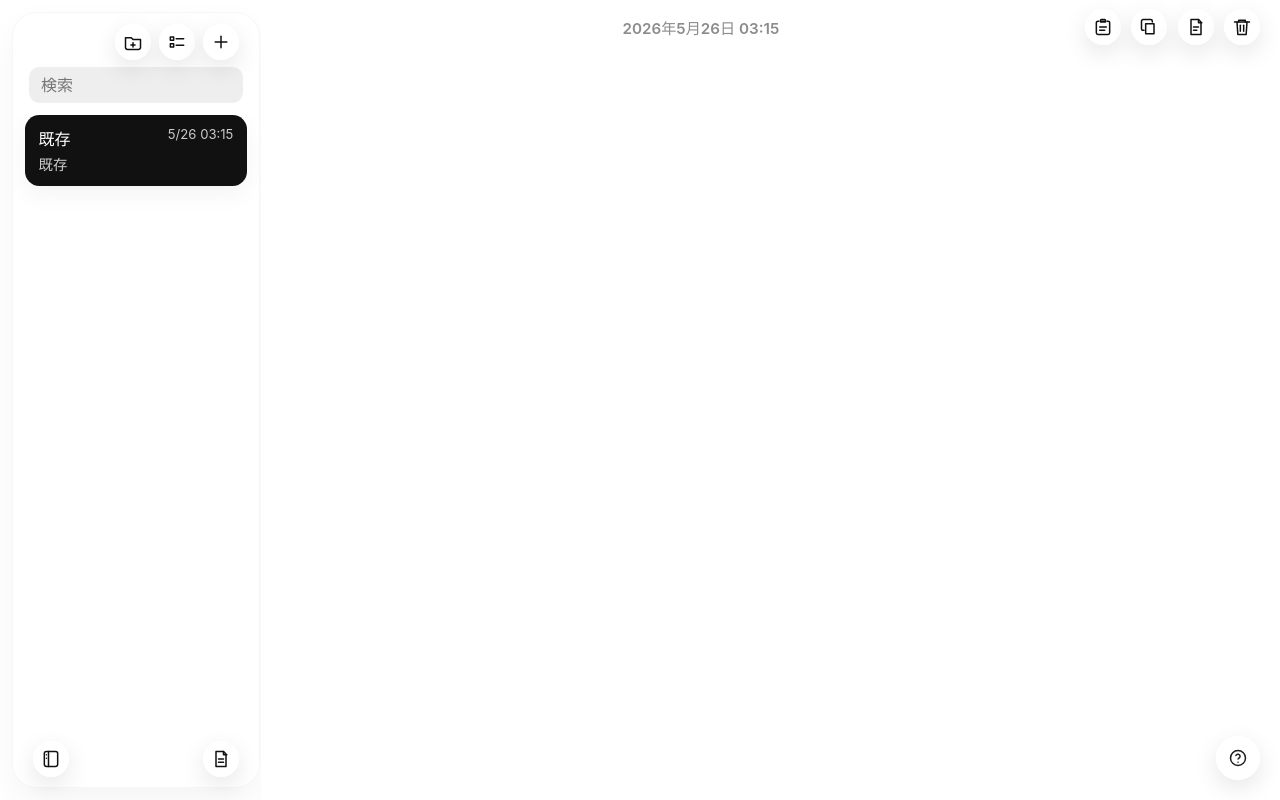
Test: App › starts note folder creation from the command palette even when the note list is hidden
Expected: the option "既存 5/26 03:15 既存" is shown, [25, 115, 247, 186]
Click the button named "Note一覧を閉じる": (51, 759) [33, 741, 69, 777]
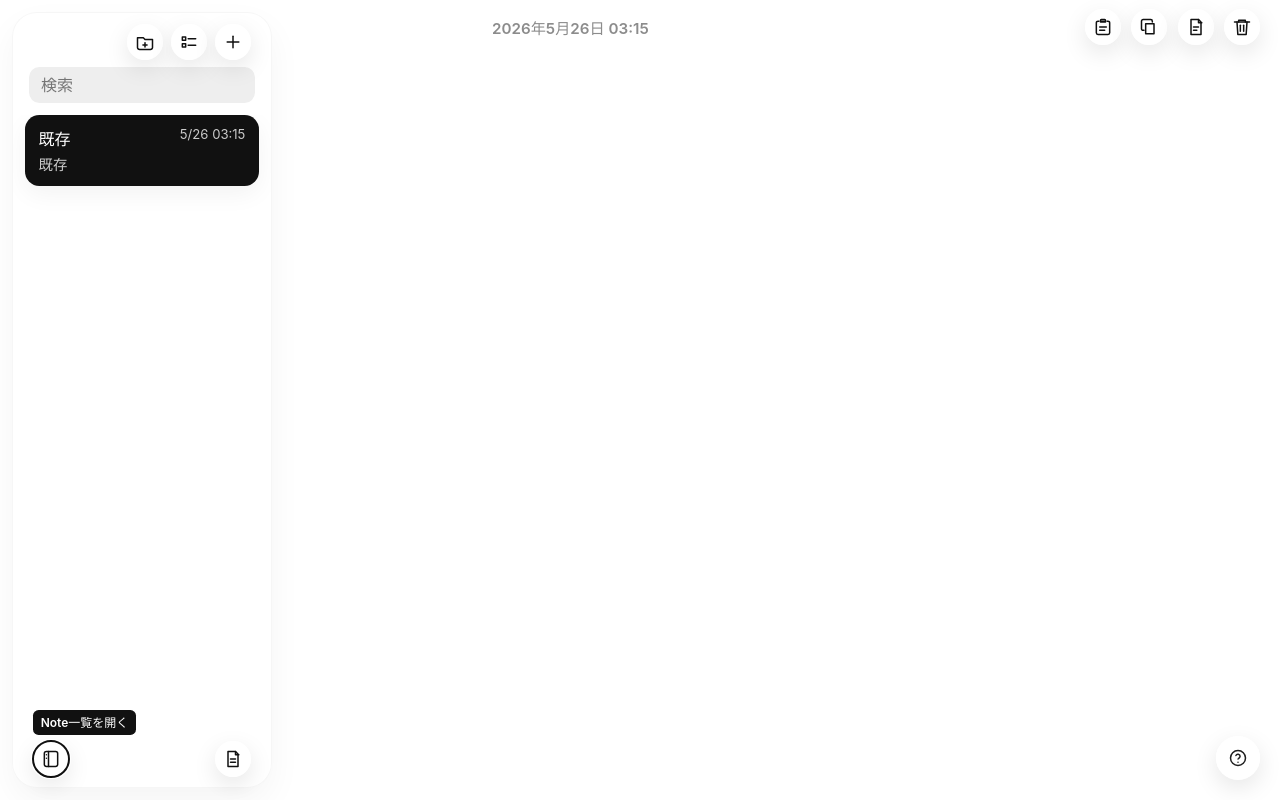
Press k
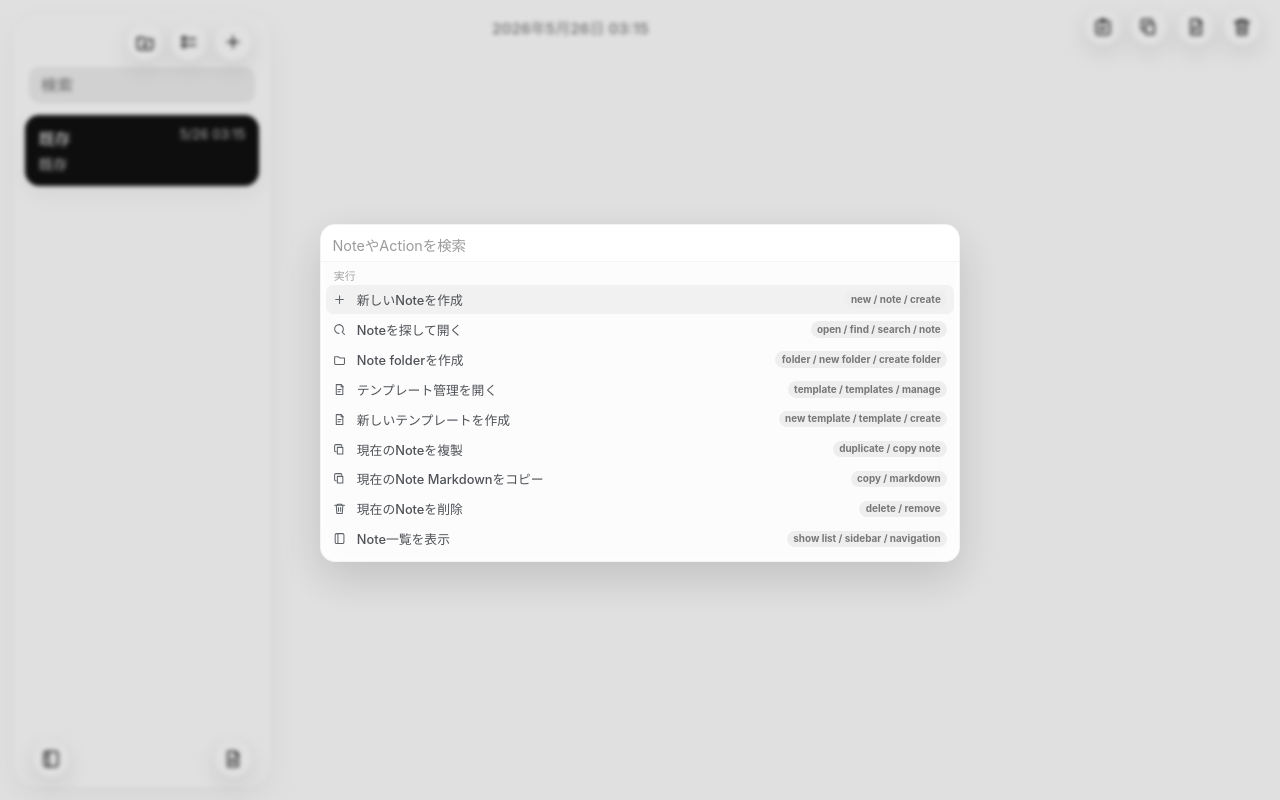
Click the button "Note folderを作成": (410, 360) [326, 345, 954, 374]
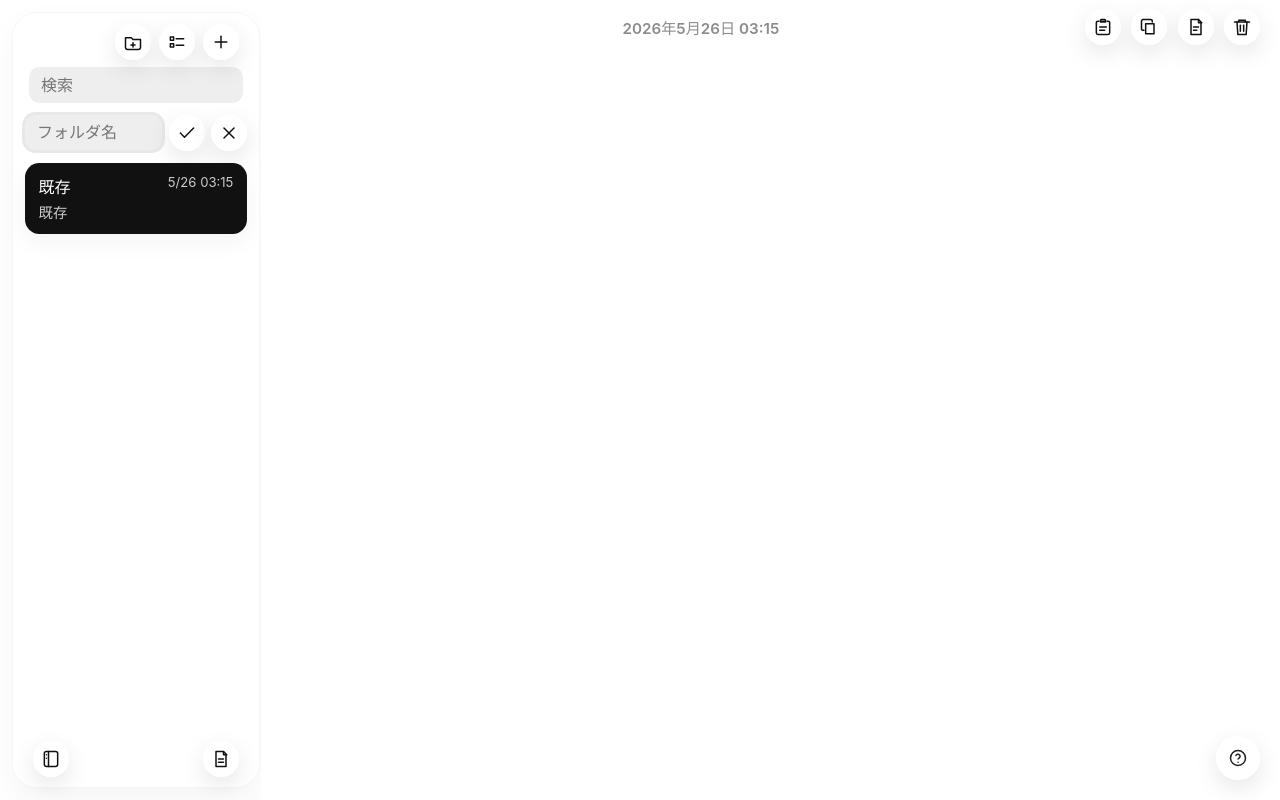
Expected: the field named "Note folder name" is shown, [25, 115, 162, 150]
